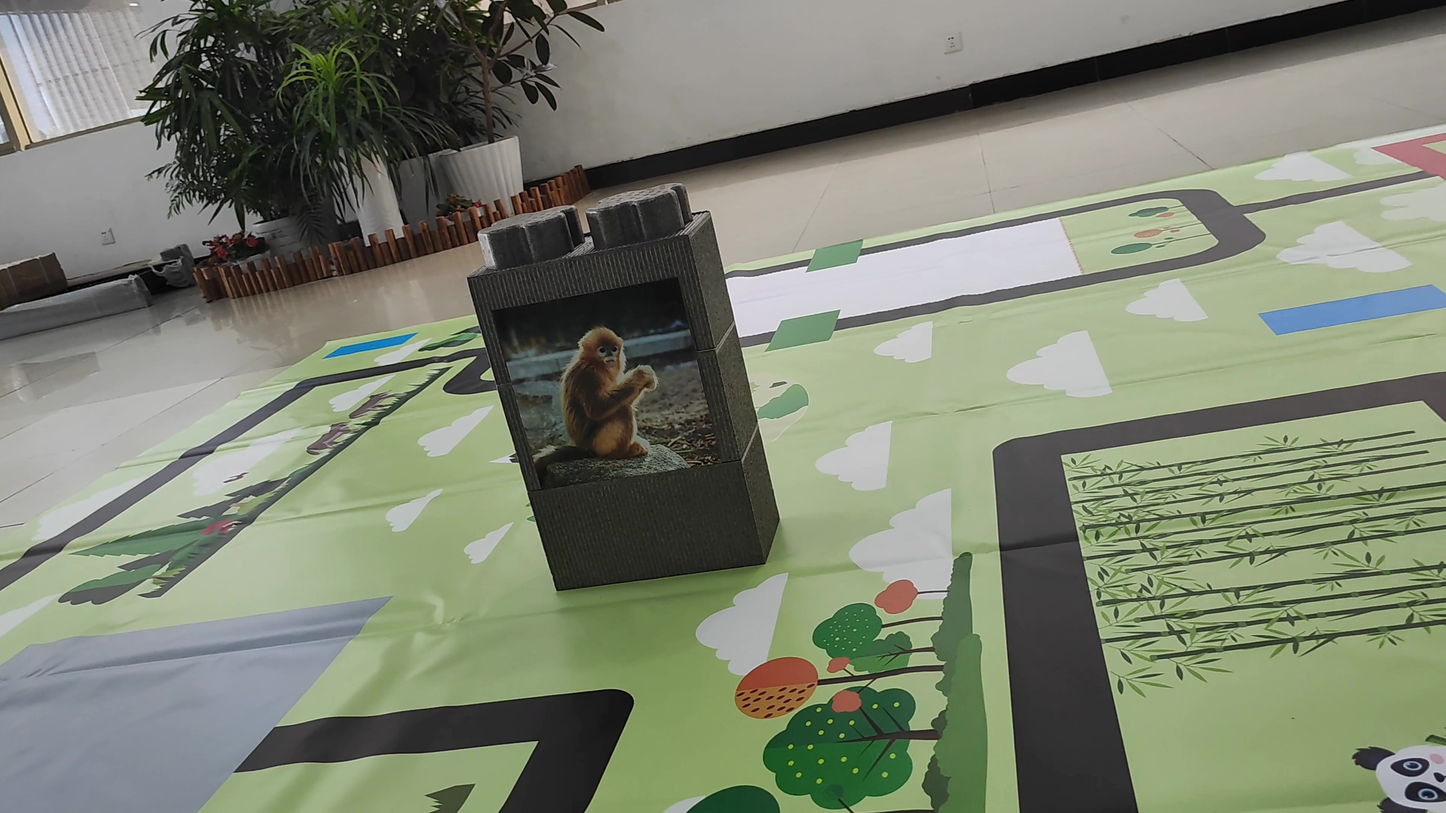monkey: (524, 301, 687, 468)
